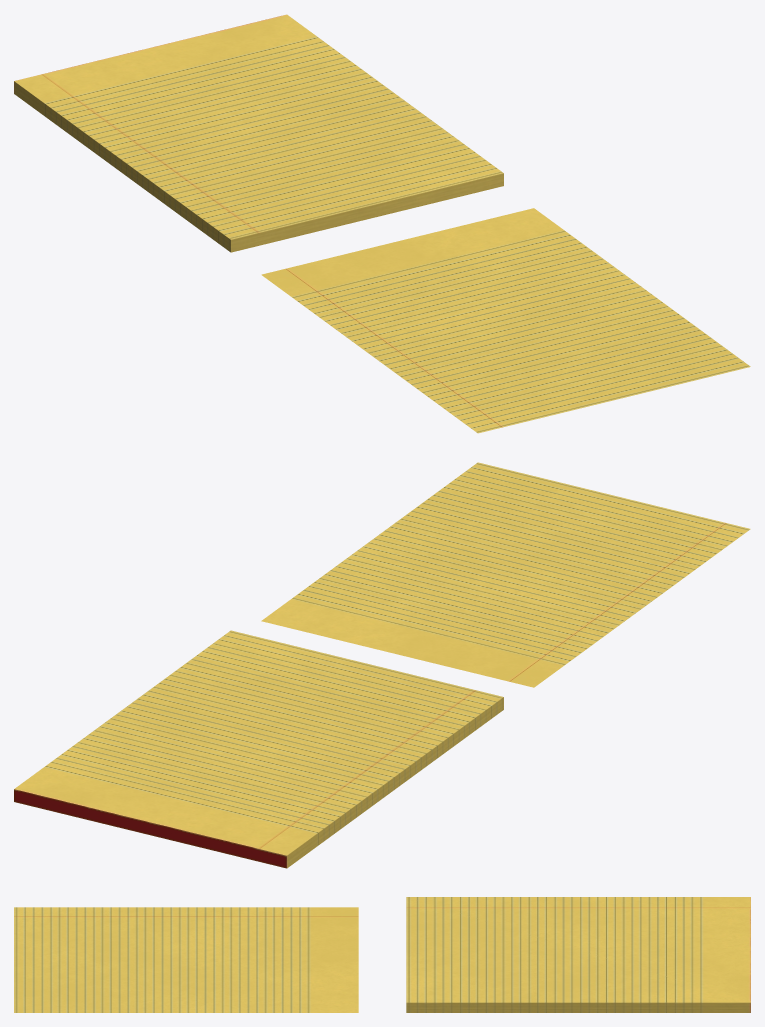
3 renders of one model, top to bottom at view 1: azimuth 30°, elevation 25°; view 2: azimuth 150°, elevation 25°; view 3: azimuth 270°, elevation 25°, orthographic. The views are drawn at different scales.
Visible parts, largest first — view 1: office_notepads_yellow_pad, office_notepads_yellow_sheet; view 2: office_notepads_yellow_pad, office_notepads_yellow_sheet; view 3: office_notepads_yellow_pad, office_notepads_yellow_sheet.
Boxes of the visible parts, left/top/right/bottom form: office_notepads_yellow_pad: left=14, top=14, right=503, bottom=252; office_notepads_yellow_sheet: left=261, top=208, right=750, bottom=433; office_notepads_yellow_pad: left=14, top=630, right=503, bottom=868; office_notepads_yellow_sheet: left=261, top=462, right=750, bottom=687; office_notepads_yellow_pad: left=406, top=897, right=750, bottom=1012; office_notepads_yellow_sheet: left=14, top=907, right=358, bottom=1012.
Size of the model in its own units: 0.2233 by 0.01 by 0.6573.
1 material, 1 textured.
